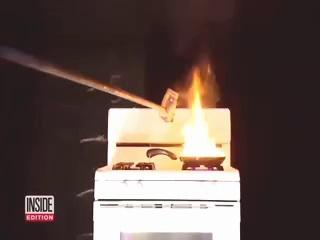Fire: (177, 80, 220, 163)
